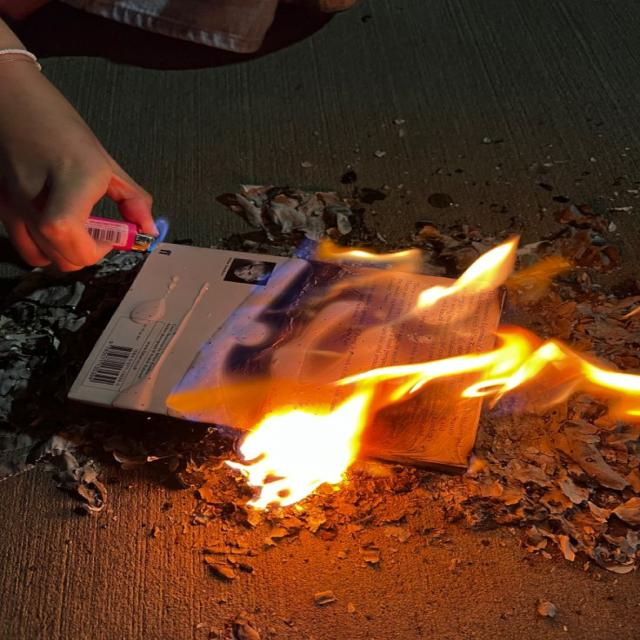fire: (166, 231, 640, 510)
